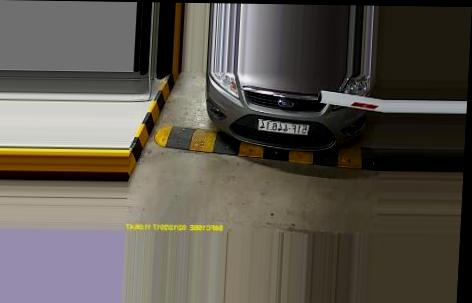License_Plate: (252, 117, 311, 138)
